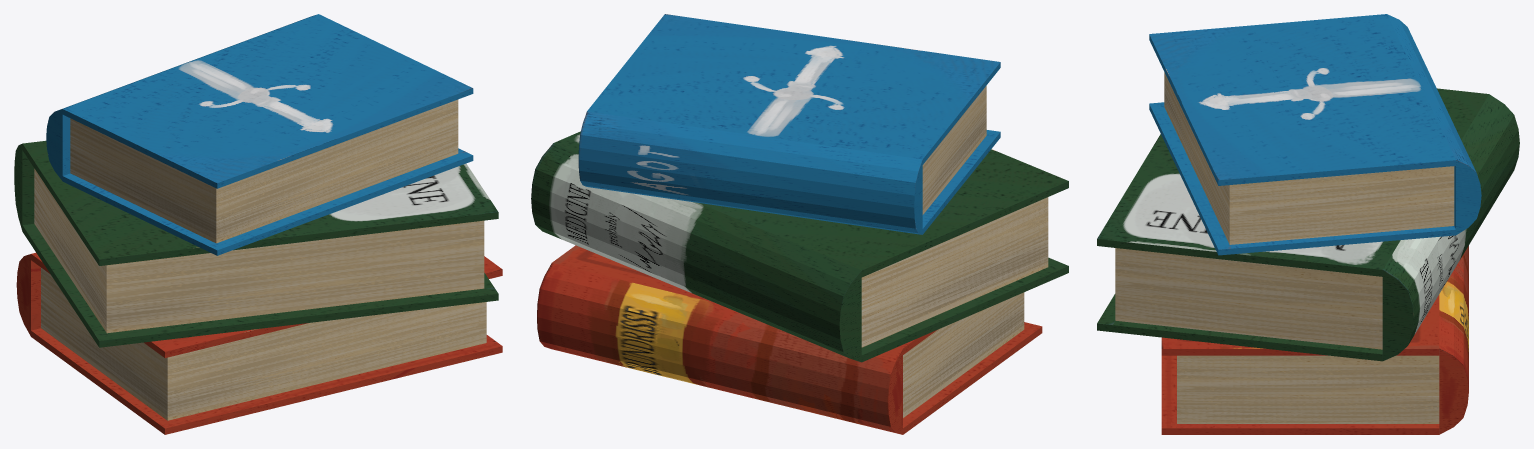
Rendered from BOOKTRAIN (1).fbx.
3 views of the same model, side by side, from view 1: azimuth 30°, elevation 25°; view 2: azimuth 150°, elevation 25°; view 3: azimuth 270°, elevation 25° (orthographic). The views are drawn at different scales.
Parts seen in each view (by area): view 1: Cube; view 2: Cube; view 3: Cube.
Part boxes in pixels (x1,y1,x2,y2): Cube: [14, 14, 502, 434]; Cube: [531, 14, 1068, 434]; Cube: [1097, 14, 1519, 434].
Bounding box in the file's own units: 597 × 336 × 508.
3 materials, 3 textured.
